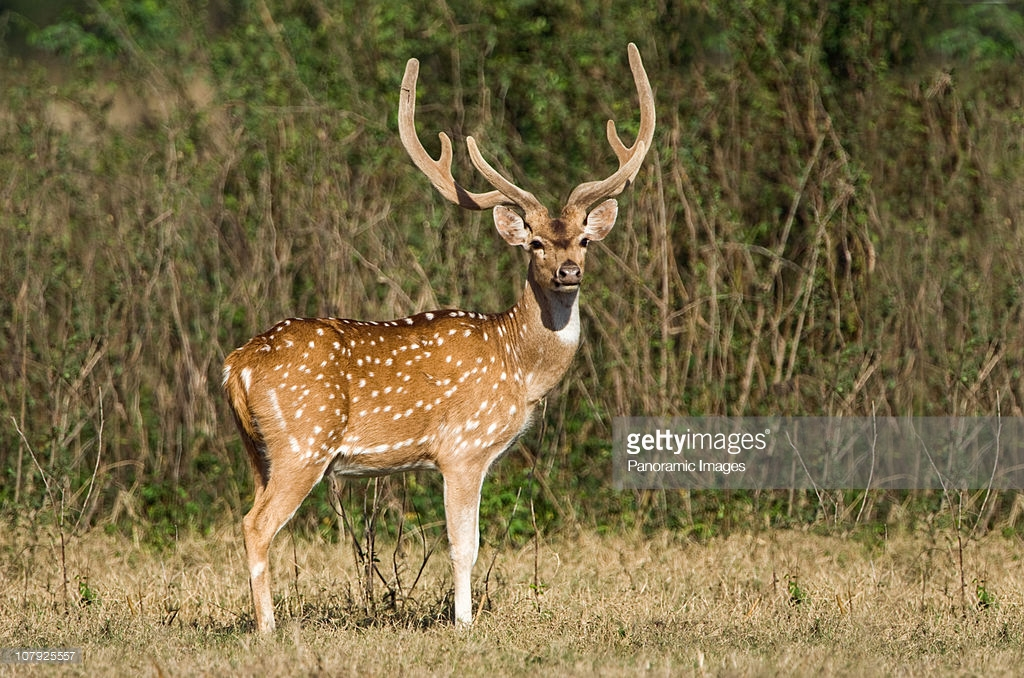Deer: (219, 39, 661, 632)
